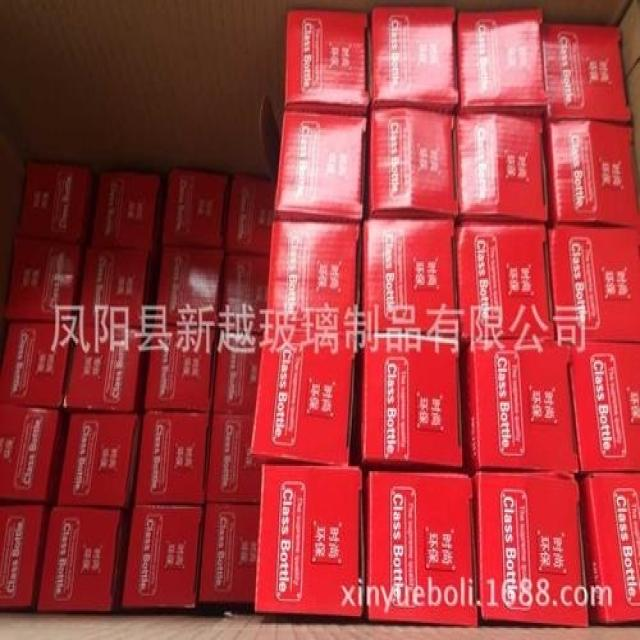box: (0, 2, 639, 638), (472, 472, 589, 626), (460, 330, 581, 473), (364, 473, 477, 626), (253, 466, 364, 619), (245, 325, 359, 469), (356, 329, 462, 468), (453, 220, 556, 338), (363, 217, 458, 332), (455, 111, 552, 221), (548, 221, 637, 339), (263, 219, 360, 327), (33, 503, 129, 611), (368, 108, 461, 219), (562, 339, 639, 473), (274, 109, 366, 221), (548, 119, 637, 225), (457, 7, 545, 114), (119, 504, 206, 610), (578, 473, 639, 622), (51, 409, 140, 511), (284, 10, 370, 114), (369, 8, 458, 108), (542, 25, 631, 123), (132, 411, 211, 508), (65, 323, 147, 411), (5, 235, 84, 325), (198, 502, 261, 614), (0, 399, 66, 504), (139, 322, 216, 411), (1, 318, 75, 410), (78, 238, 150, 330), (152, 240, 224, 329), (85, 167, 160, 248), (22, 161, 93, 240), (1, 499, 48, 611), (162, 169, 228, 248), (207, 413, 260, 507), (211, 327, 261, 418), (218, 248, 268, 332), (228, 173, 275, 255)
